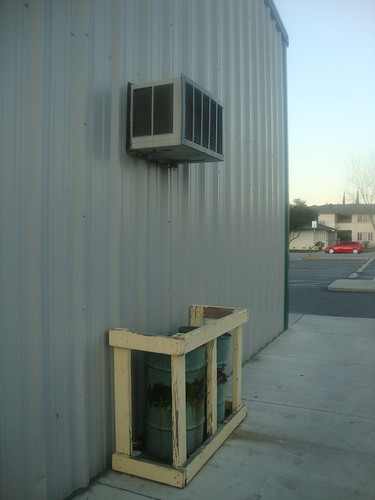building: (1, 1, 284, 500)
car: (320, 236, 367, 254)
